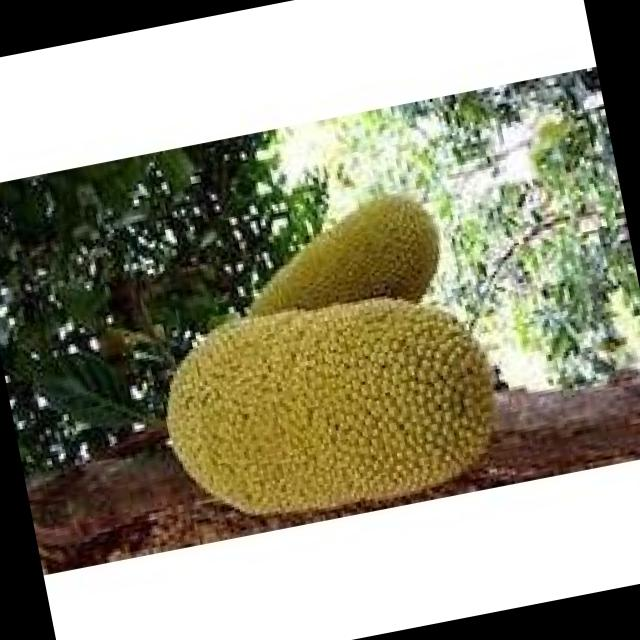Fruit: (126, 245, 544, 550), (208, 170, 472, 350)
